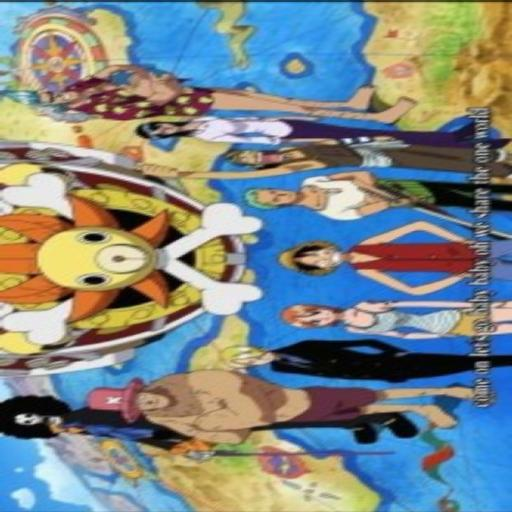Luffy: (272, 235, 356, 277)
Nami: (266, 298, 348, 333)
NicoRobin: (130, 116, 204, 140)
Usopp: (223, 144, 288, 170)
Zoro: (242, 186, 310, 210)
sanji: (211, 338, 284, 368)
